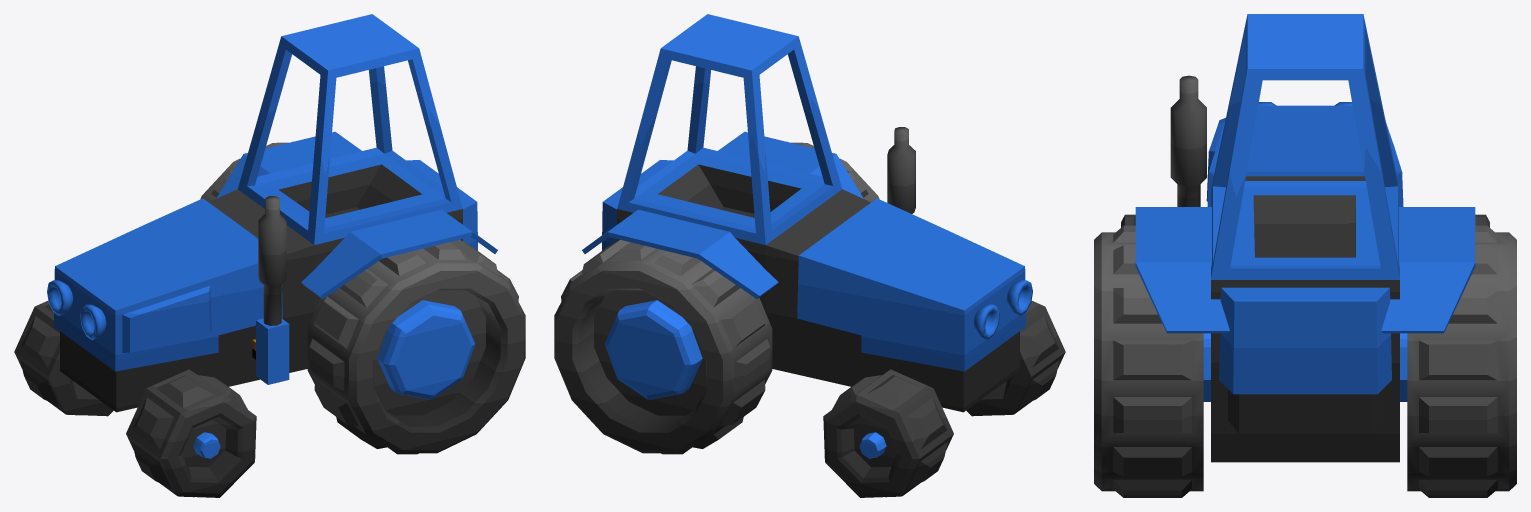
Rendered from tractor.fbx.
3 renders of one model, left to right at view 1: azimuth 30°, elevation 25°; view 2: azimuth 150°, elevation 25°; view 3: azimuth 270°, elevation 25°, orthographic. The views are drawn at different scales.
Visible parts, largest first — view 1: Body, Big Wheels, Small Wheels, Pipe; view 2: Body, Big Wheels, Small Wheels, Pipe; view 3: Body, Big Wheels, Pipe.
Boxes of the visible parts, x1,y1,x2,y2 form: Body: [47, 14, 497, 412]; Big Wheels: [200, 141, 525, 454]; Small Wheels: [14, 301, 256, 497]; Pipe: [258, 196, 286, 325]; Body: [582, 14, 1032, 412]; Big Wheels: [554, 141, 879, 454]; Small Wheels: [823, 301, 1065, 497]; Pipe: [887, 127, 915, 213]; Body: [1135, 14, 1475, 462]; Big Wheels: [1094, 225, 1516, 497]; Pipe: [1170, 75, 1206, 206].
Bounding box in the file's own units: 318 × 287 × 249.
